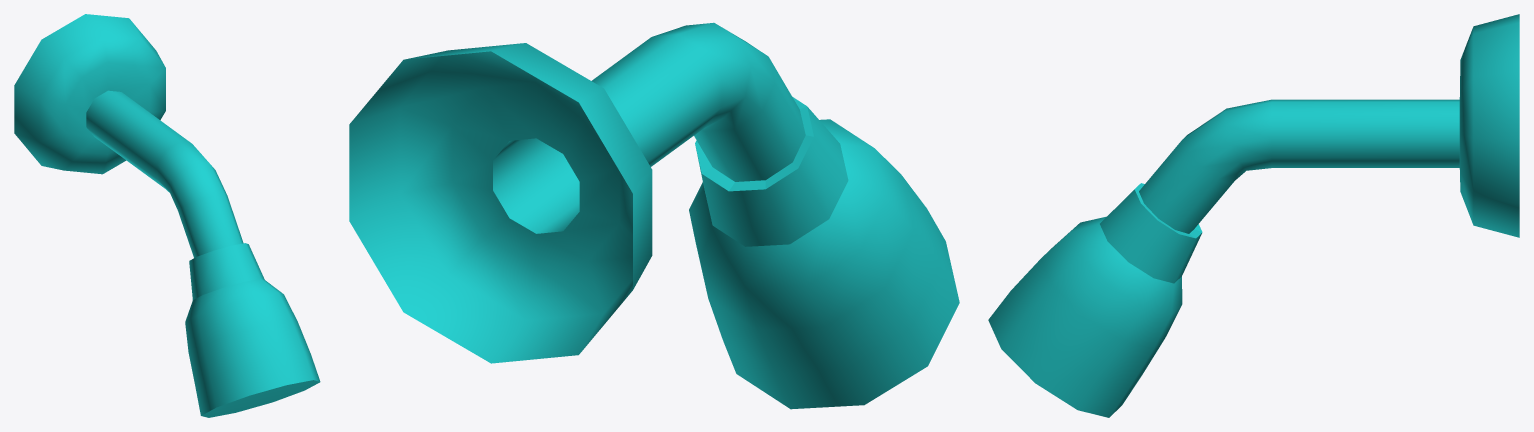
Rendered from Ducha.fbx.
The picture shows the model from 3 angles, left to right: view 1: azimuth 30°, elevation 25°; view 2: azimuth 150°, elevation 25°; view 3: azimuth 270°, elevation 25°; orthographic projection. The views are drawn at different scales.
Visible parts, largest first — view 1: Ducha; view 2: Ducha; view 3: Ducha.
Boxes of the visible parts, x1,y1,x2,y2 form: Ducha: (14, 14, 320, 417); Ducha: (349, 22, 959, 409); Ducha: (988, 14, 1519, 417).
Size of the model in its own units: 0.1309 by 0.2548 by 0.3208.
